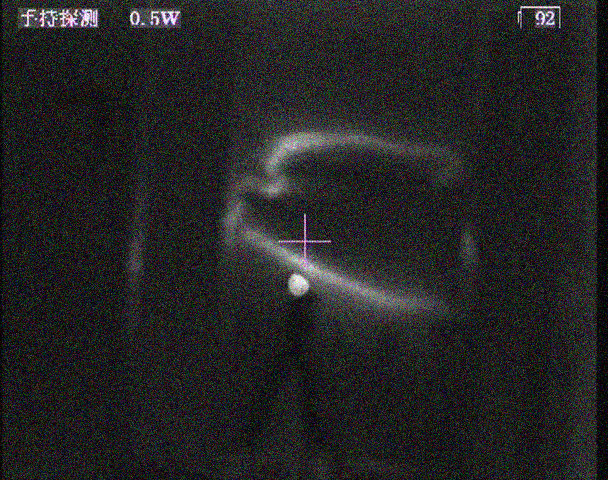my: (286, 271, 311, 298)
